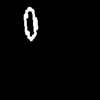chain: (24, 7, 37, 40)
